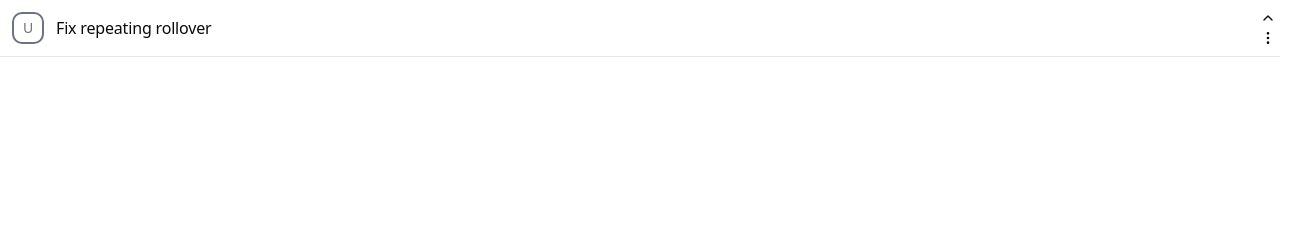
Scenario: board card header — expand lives in the menu (AWTD-872) › says Exit full screen once expanded, so the menu can drop it back
This screenshot has width=1292, height=229.
Click the button named "Task actions". click: click(1268, 38)
box: [1258,28,1278,48]
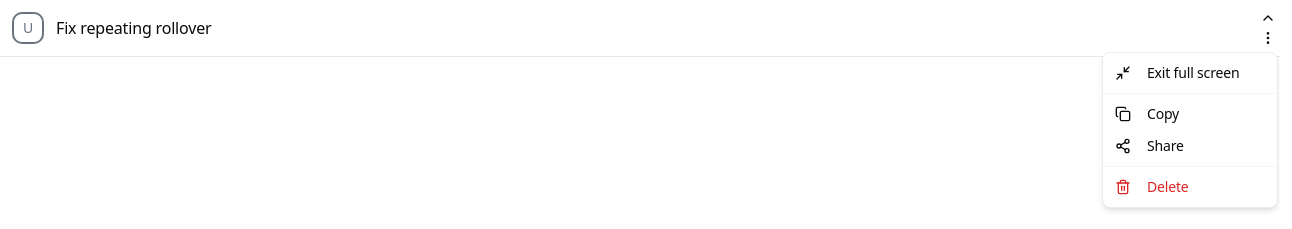
Result: the menu item "Exit full screen" is shown at [1115,63,1239,82]
